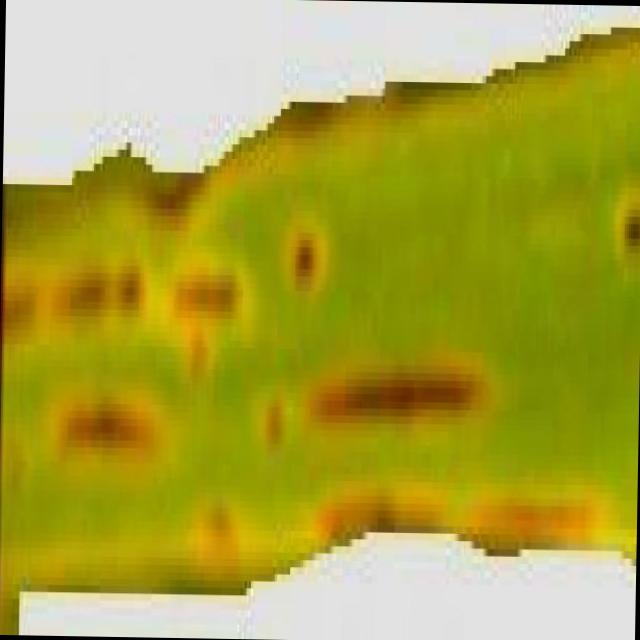Rice_Brownspot: (42, 330, 184, 485), (0, 256, 247, 326), (306, 349, 492, 410), (268, 174, 346, 299), (610, 136, 640, 289), (259, 355, 283, 443)
